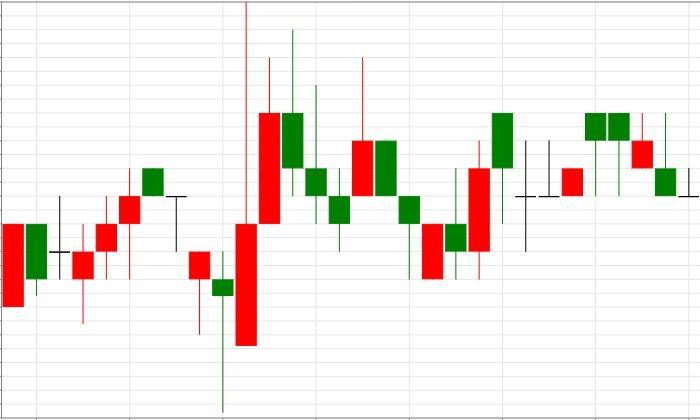three_black_crows_fall: (212, 1, 349, 412)
